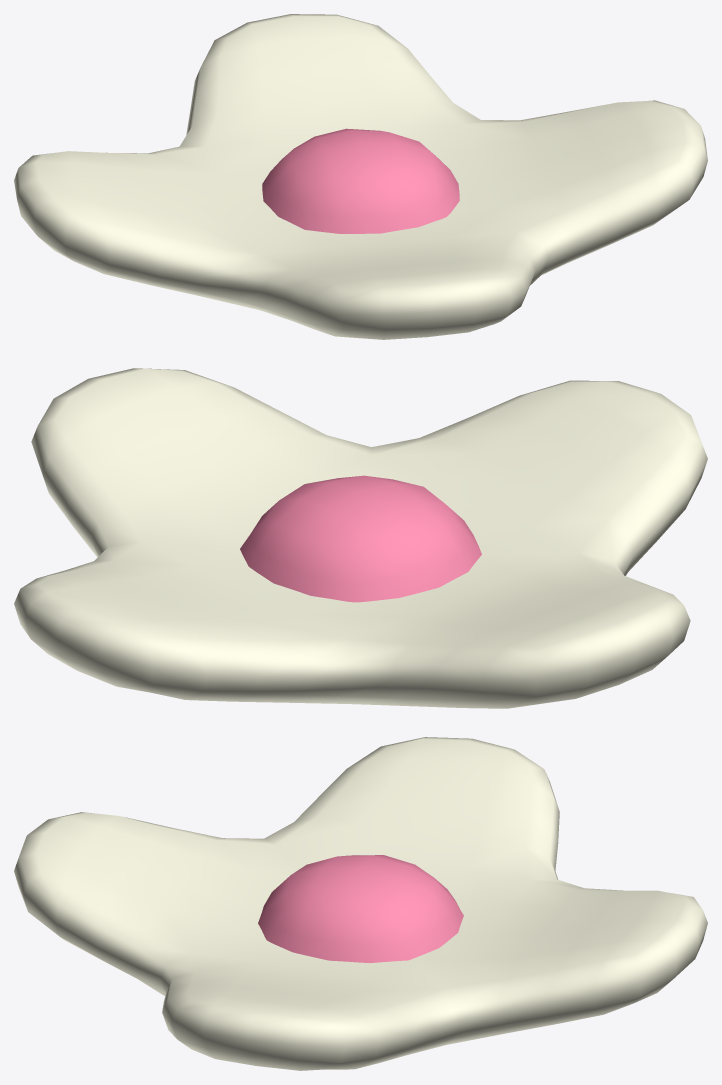
The model's file is Town_2_Flower_1.glb.
3 views of the same model, one above another, from view 1: azimuth 30°, elevation 25°; view 2: azimuth 150°, elevation 25°; view 3: azimuth 270°, elevation 25° (orthographic). The views are drawn at different scales.
Parts seen in each view (by area): view 1: Town_2_Flower_1; view 2: Town_2_Flower_1; view 3: Town_2_Flower_1.
Part boxes in pixels (x1,y1,x2,y2): Town_2_Flower_1: (14, 14, 707, 339); Town_2_Flower_1: (14, 368, 707, 708); Town_2_Flower_1: (14, 737, 707, 1070).
Bounding box in the file's own units: 0.4243 × 0.0772 × 0.4189.
Materials: 1 (1 with a texture image).
